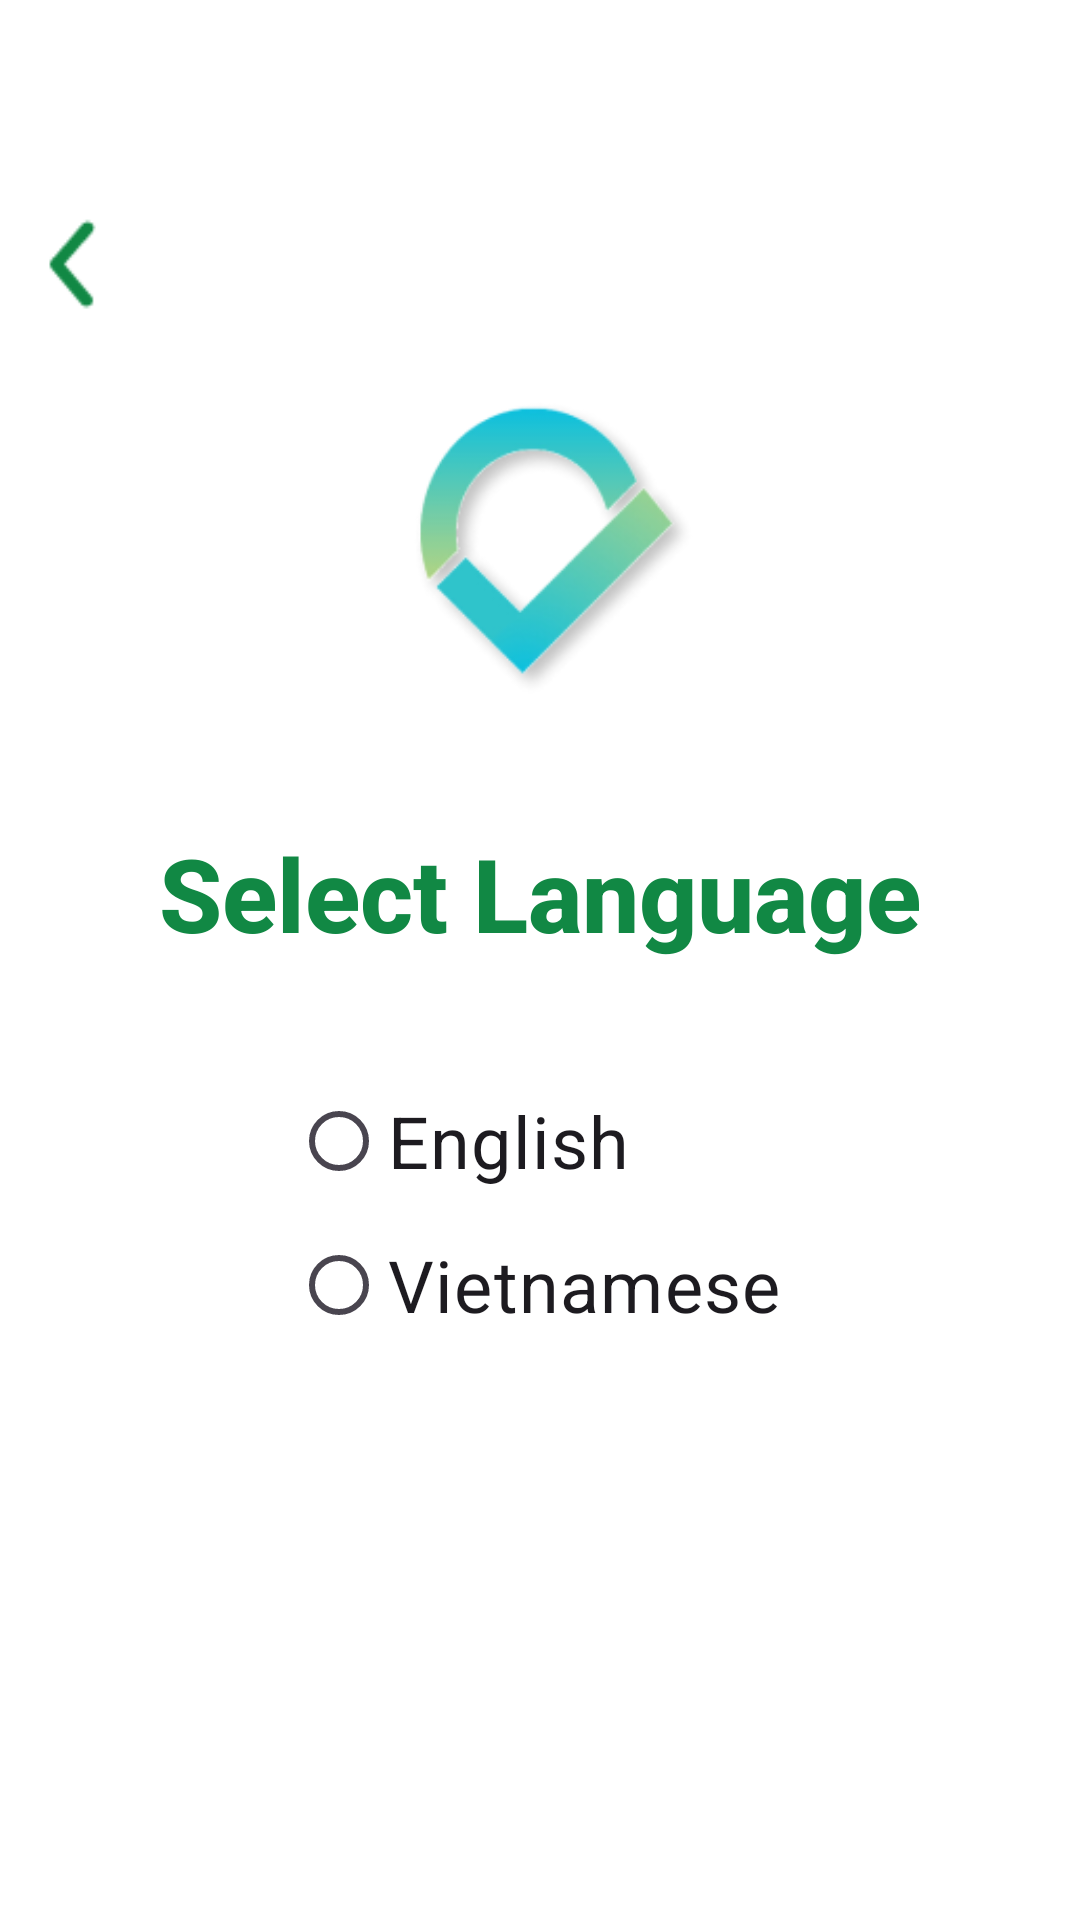

Icon bounding boxes for this 1080 × 1920 phone screenshot, format {"x1": x1, "y1": y1, "x2": x2, "y2": y2}:
Back button: {"x1": 49, "y1": 220, "x2": 96, "y2": 309}
